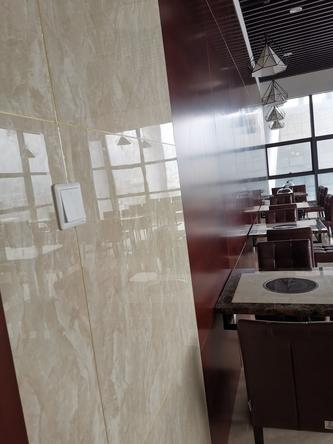switch: (57, 185, 87, 226)
